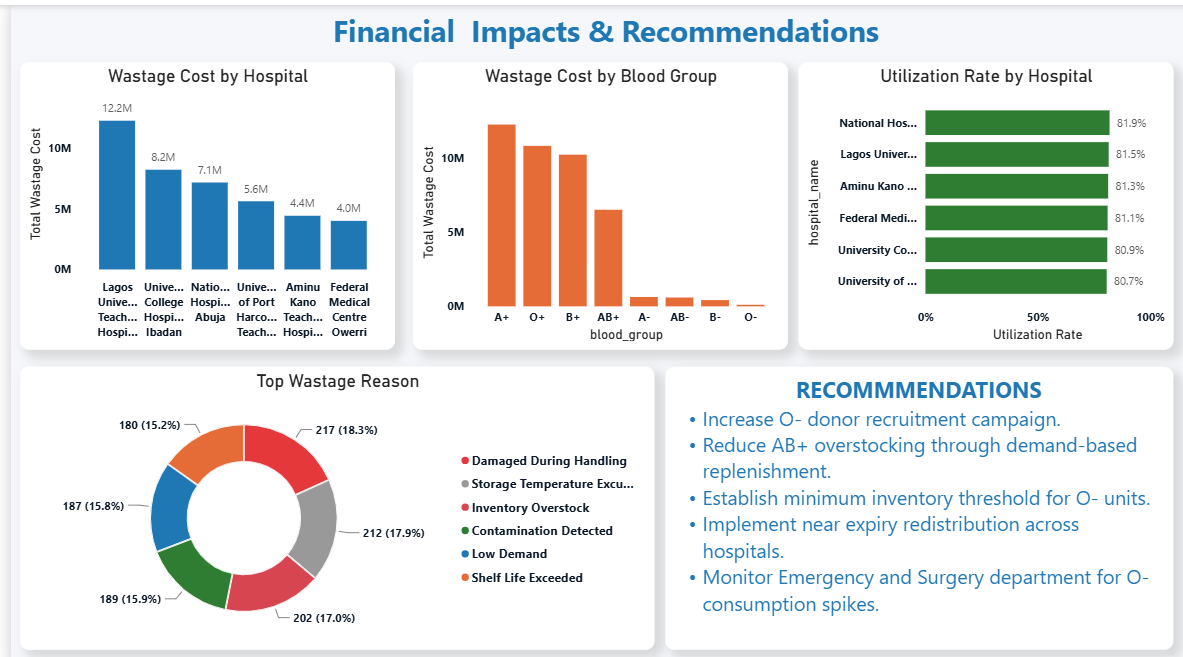

Layout of this report page (visuals, bound fields, positions):
{"tool":"powerbi","page":{"name":"Financial Impact","canvas":[1280,720],"ordinal":2},"visuals":[{"type":"textbox","box":[9.8,0,1270.3,61.8],"z":0},{"type":"clusteredColumnChart","title":"Wastage Cost by Blood Group","fields":{"Y":["blood_bank_inventory_dataset.Total Wastage Cost"],"Category":["blood_bank_inventory_dataset.blood_group"]},"box":[435.9,61.8,406.6,312.3],"z":1000},{"type":"clusteredColumnChart","title":"Wastage Cost by Hospital","fields":{"Category":["blood_bank_inventory_dataset.hospital_name"],"Y":["blood_bank_inventory_dataset.Total Wastage Cost"]},"box":[9.8,61.8,406.6,312.3],"z":2000},{"type":"donutChart","title":"Top Wastage Reason","fields":{"Category":["blood_bank_inventory_dataset.wastage_reason"],"Y":["CountNonNull(blood_bank_inventory_dataset.unit_id)"]},"box":[9.8,392,688,307.4],"z":3000},{"type":"clusteredBarChart","title":"Utilization Rate by Hospital","fields":{"Category":["blood_bank_inventory_dataset.hospital_name"],"Y":["blood_bank_inventory_dataset.Utilization Rate"]},"box":[853.9,61.8,406.6,312.3],"z":4000},{"type":"textbox","box":[709.2,392,551.4,307.4],"z":5000}]}

Visuals, with their boxes in screenshot pixels (x1, y1, x2, y2), scaled from the page's 1280x720 canvas onto the 1183x657 screenshot:
textbox: 9 0 1182 56
"Wastage Cost by Blood Group" clusteredColumnChart: 403 56 779 341
"Wastage Cost by Hospital" clusteredColumnChart: 9 56 385 341
"Top Wastage Reason" donutChart: 9 358 645 638
"Utilization Rate by Hospital" clusteredBarChart: 789 56 1165 341
textbox: 655 358 1165 638
